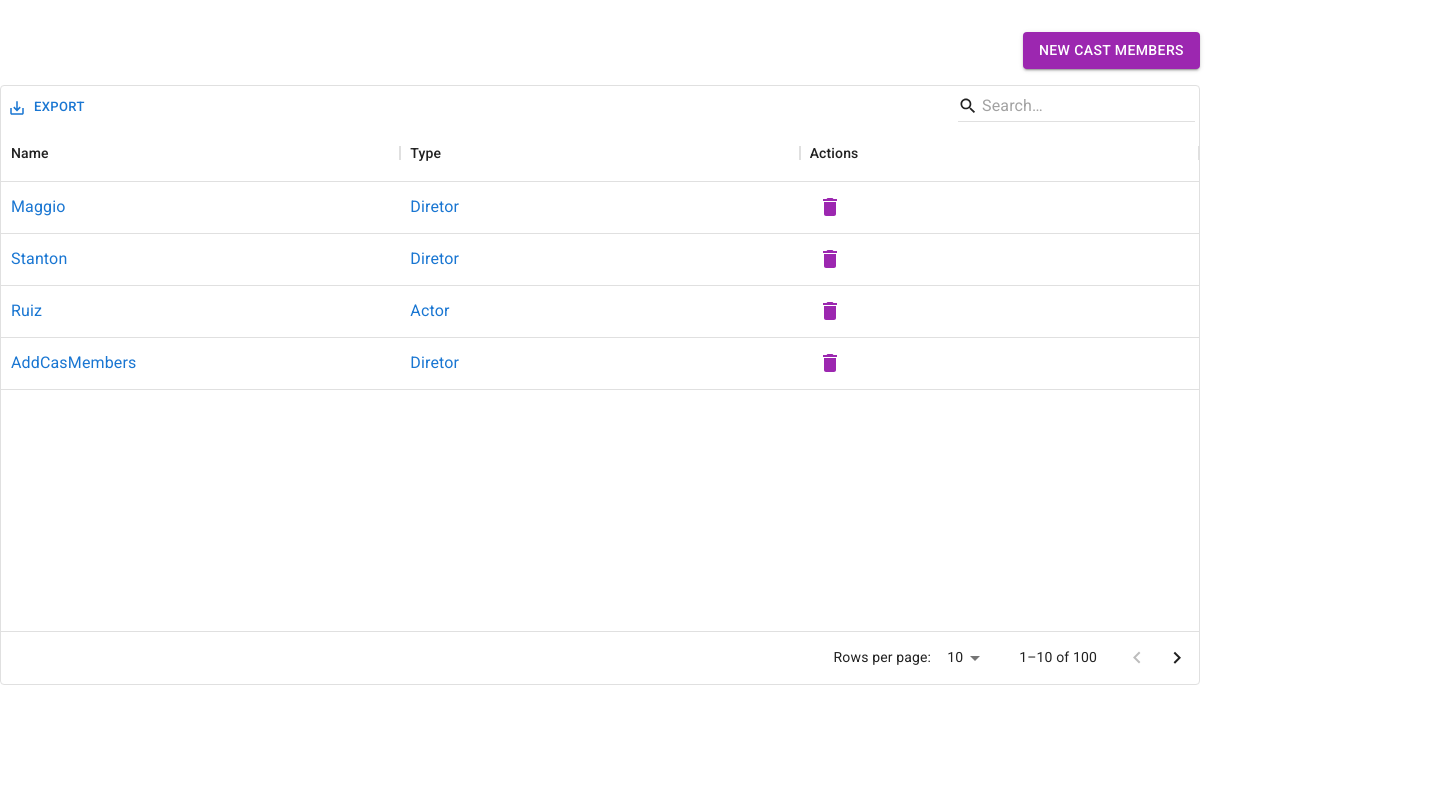
CreateCastMember › should click delete button
Click the button with test id "delete-button" in the row of "Maggio" at (830, 207), box [810,187,850,227]
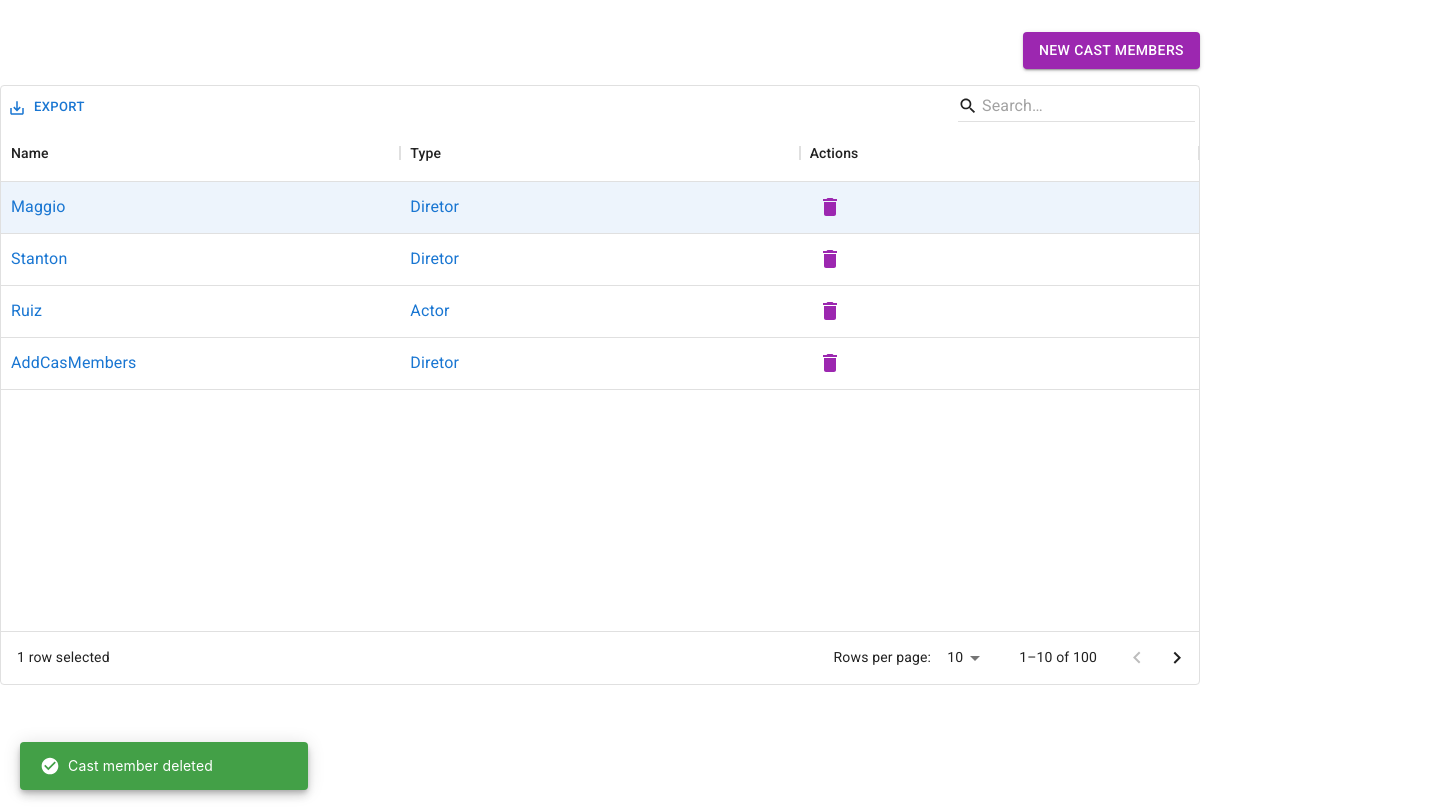
Result: the text "Cast member deleted" is shown at [40,756,213,776]
